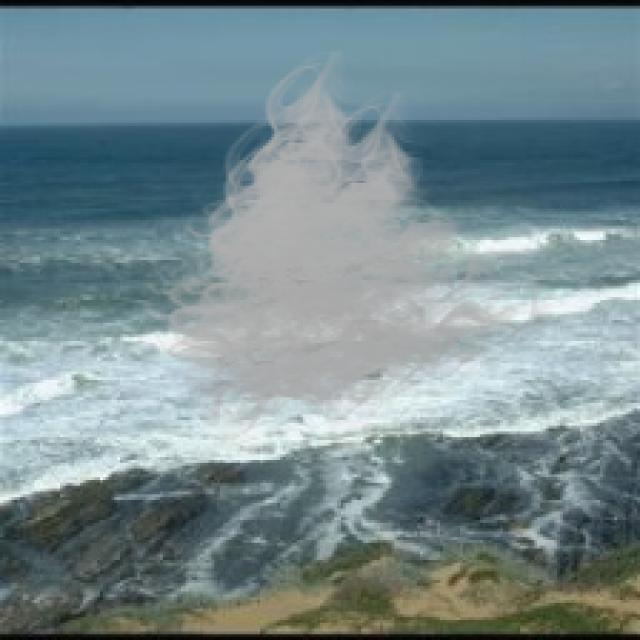Smoke: (128, 51, 554, 448)
